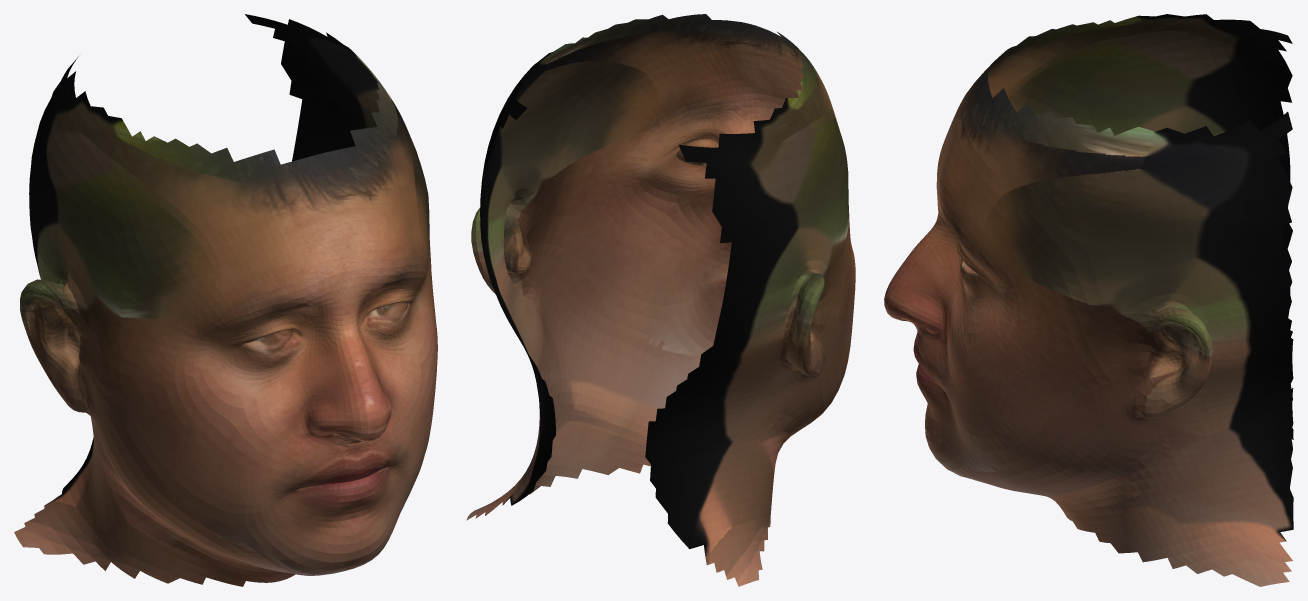
File: baseline.glb
3 views of the same model, side by side, from view 1: azimuth 30°, elevation 25°; view 2: azimuth 150°, elevation 25°; view 3: azimuth 270°, elevation 25° (orthographic). The views are drawn at different scales.
Visible parts, largest first — view 1: geometry_0; view 2: geometry_0; view 3: geometry_0.
Boxes of the visible parts, left/top/right/bottom form: geometry_0: left=14, top=14, right=437, bottom=586; geometry_0: left=466, top=14, right=855, bottom=586; geometry_0: left=884, top=14, right=1293, bottom=586.
Size of the model in its own units: 0.1828 by 0.2199 by 0.1833.
1 material, 1 textured.
